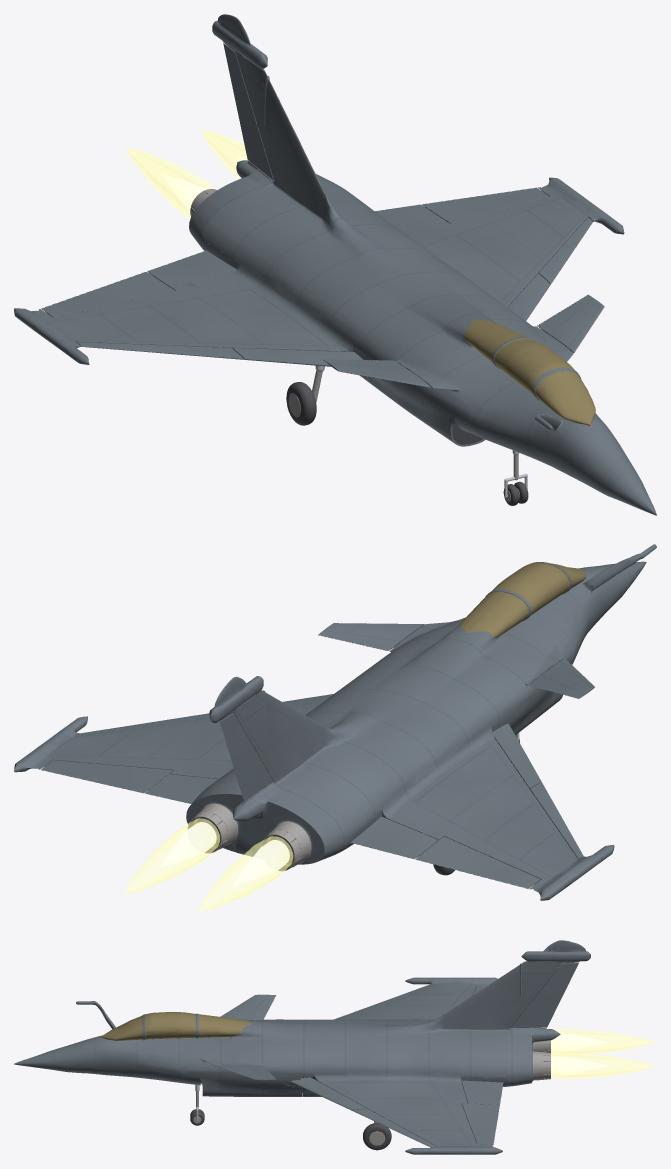
Rendered from rafale.glb.
The picture shows the model from 3 angles, top to bottom: view 1: azimuth 30°, elevation 25°; view 2: azimuth 150°, elevation 25°; view 3: azimuth 270°, elevation 25°; orthographic projection. The views are drawn at different scales.
Parts seen in each view (by area): view 1: airframe, fsim:lef@-2,25 (×4), fsim:elevator+aileron:-1@-25,25 (×2), fsim:elevator@-20,50 (×2), fsim:elevator+aileron:1@-25,25 (×2), fsim:afterburner:1, fsim:rudder, fsim:wheel:2:0.38, fsim:afterburner:0; view 2: airframe, fsim:elevator+aileron:-1@-25,25 (×2), fsim:elevator+aileron:1@-25,25 (×2), fsim:elevator@-20,50 (×2), fsim:afterburner:1, fsim:afterburner:0, fsim:lef@-2,25 (×3), fsim:rudder; view 3: airframe, fsim:elevator+aileron:1@-25,25 (×2), fsim:afterburner:0, fsim:afterburner:1, fsim:rudder, fsim:elevator@-20,50 (×2), fsim:lef@-2,25 (×2), fsim:wheel:1:0.38.
Part boxes in pixels (<box>): airframe: <box>14,14,656,515</box>; fsim:lef@-2,25 (×4): <box>76,217,592,366</box>; fsim:elevator+aileron:-1@-25,25 (×2): <box>41,250,236,317</box>; fsim:elevator@-20,50 (×2): <box>323,294,604,387</box>; fsim:elevator+aileron:1@-25,25 (×2): <box>375,187,548,231</box>; fsim:afterburner:1: <box>126,148,213,218</box>; fsim:rudder: <box>223,43,273,180</box>; fsim:wheel:2:0.38: <box>286,382,316,425</box>; fsim:afterburner:0: <box>200,129,248,178</box>; airframe: <box>14,544,656,900</box>; fsim:elevator+aileron:-1@-25,25 (×2): <box>350,816,540,888</box>; fsim:elevator+aileron:1@-25,25 (×2): <box>41,760,218,803</box>; fsim:elevator@-20,50 (×2): <box>318,623,594,698</box>; fsim:afterburner:1: <box>197,836,293,911</box>; fsim:afterburner:0: <box>124,818,219,893</box>; fsim:lef@-2,25 (×3): <box>75,713,583,859</box>; fsim:rudder: <box>220,713,273,801</box>; airframe: <box>14,940,590,1154</box>; fsim:elevator+aileron:1@-25,25 (×2): <box>461,1080,503,1144</box>; fsim:afterburner:0: <box>551,1053,656,1079</box>; fsim:afterburner:1: <box>551,1029,656,1055</box>; fsim:rudder: <box>510,963,578,1027</box>; fsim:elevator@-20,50 (×2): <box>215,994,276,1080</box>; fsim:lef@-2,25 (×2): <box>290,1077,436,1147</box>; fsim:wheel:1:0.38: <box>363,1123,391,1150</box>.
Size of the model in its own units: 10.84 by 5.39 by 16.99.
Materials: 8 (1 with a texture image).
